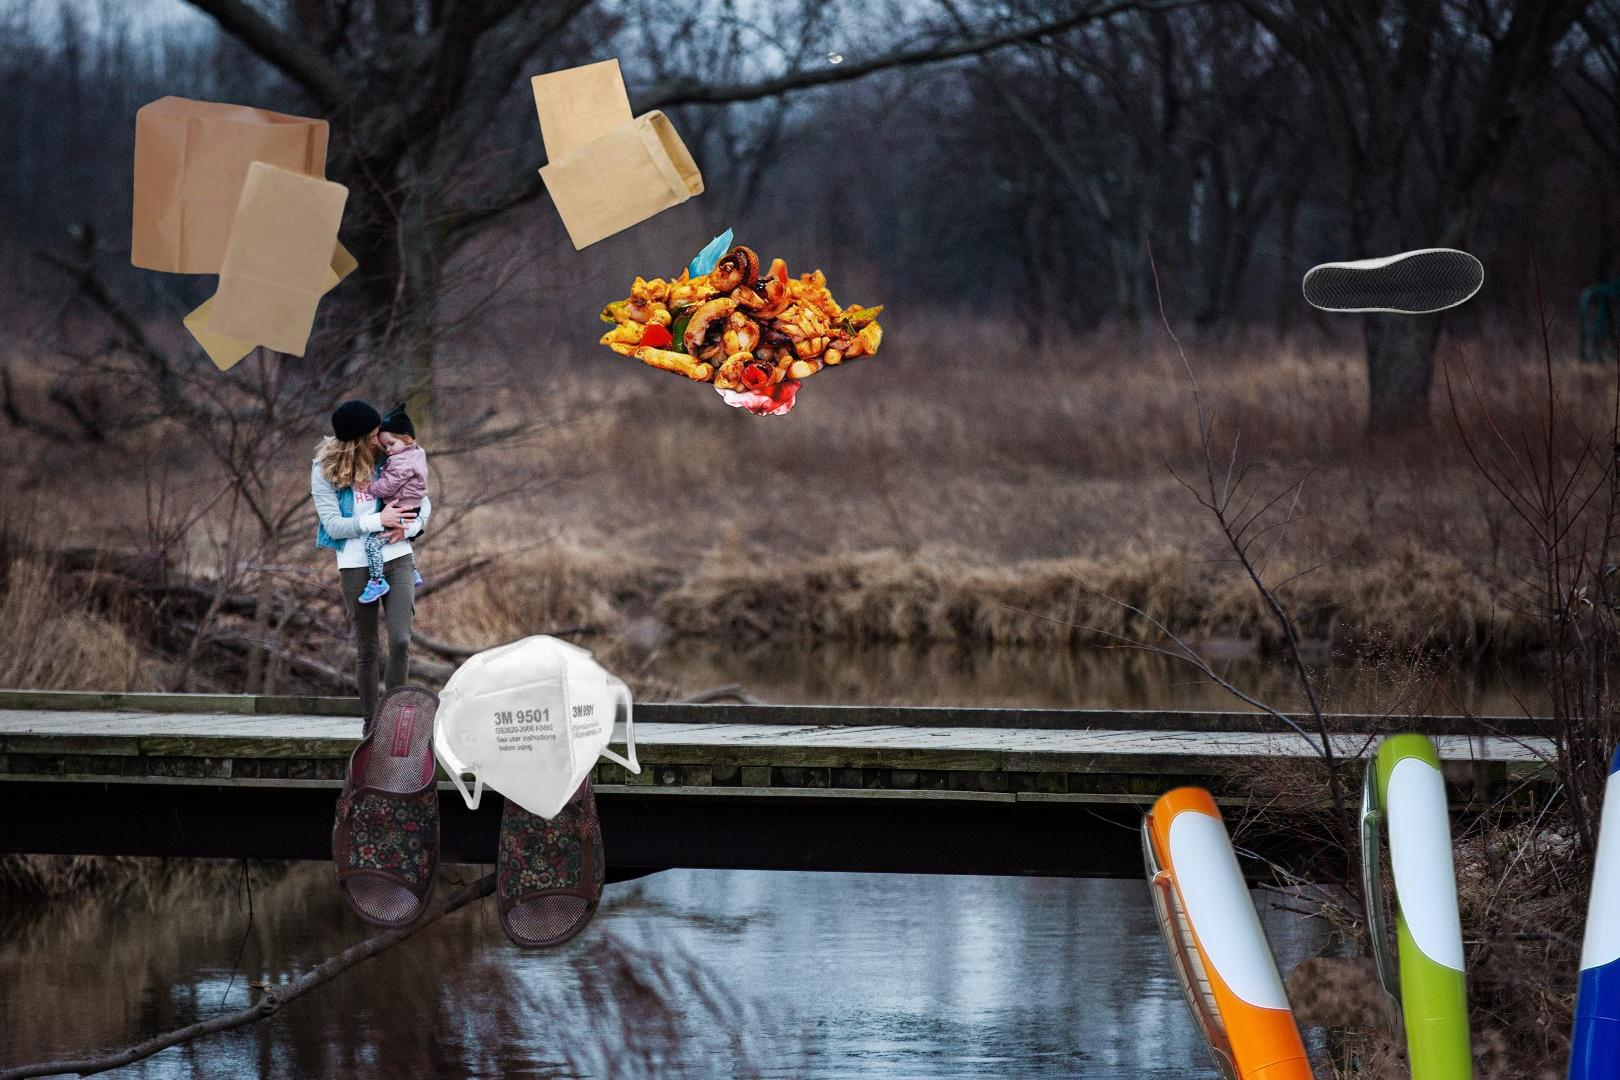biological: (595, 241, 886, 397)
paper-bag: (127, 93, 362, 375), (527, 55, 708, 254)
penholder: (1131, 724, 1620, 1080)
plastic-bag: (655, 224, 804, 419)
shoes: (328, 680, 609, 953), (1299, 245, 1487, 317)
trash: (430, 623, 657, 826)
